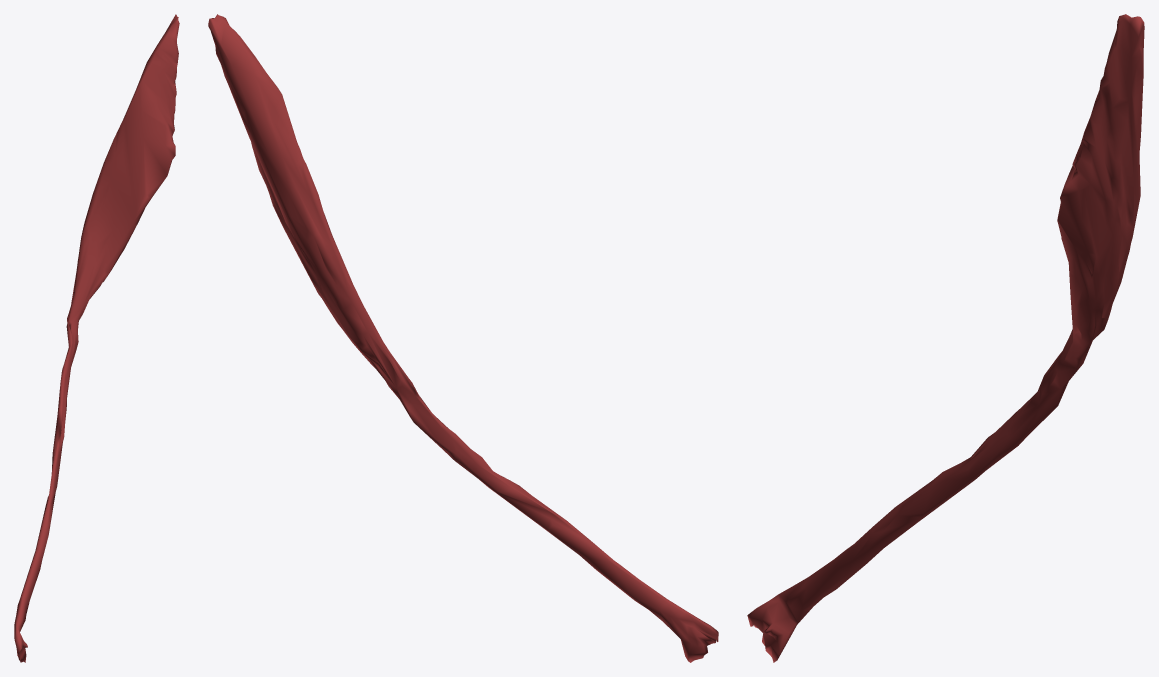
File: extensor-pollicis-brevis-r.glb
The picture shows the model from 3 angles, left to right: view 1: azimuth 30°, elevation 25°; view 2: azimuth 150°, elevation 25°; view 3: azimuth 270°, elevation 25°; orthographic projection. The views are drawn at different scales.
Parts seen in each view (by area): view 1: Extensor pollicis brevis.r; view 2: Extensor pollicis brevis.r; view 3: Extensor pollicis brevis.r.
Boxes of the visible parts, x1,y1,x2,y2 form: Extensor pollicis brevis.r: (14,14,179,662); Extensor pollicis brevis.r: (208,14,718,662); Extensor pollicis brevis.r: (747,14,1144,662).
Bounding box in the file's own units: 0.079 × 0.1403 × 0.0586.
